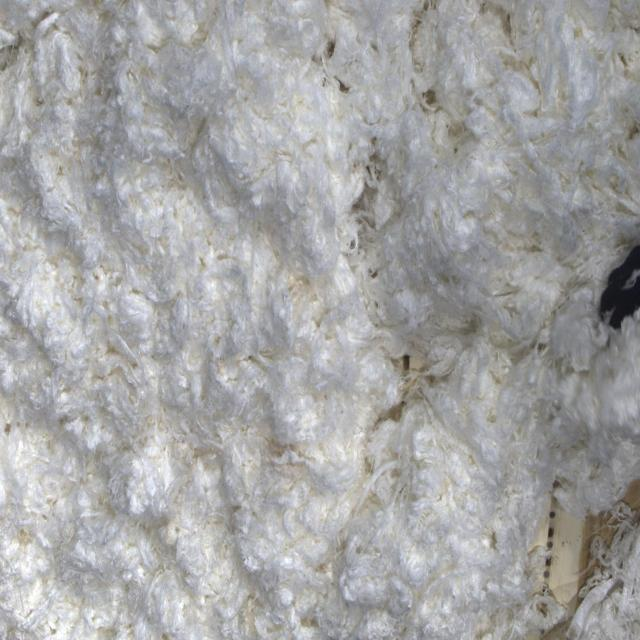dust: (515, 492, 620, 617), (595, 239, 640, 348), (624, 478, 640, 512), (401, 354, 423, 370), (421, 87, 439, 106), (333, 73, 349, 94), (325, 39, 335, 61), (402, 355, 410, 370)
